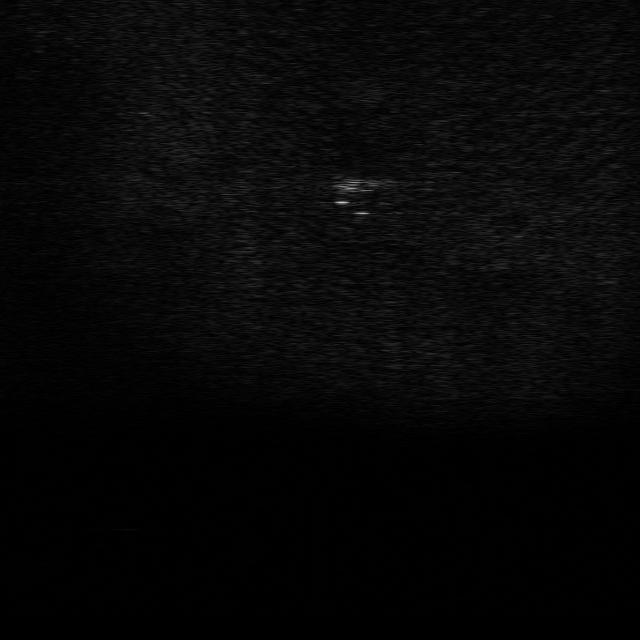plane: (318, 168, 390, 198)
